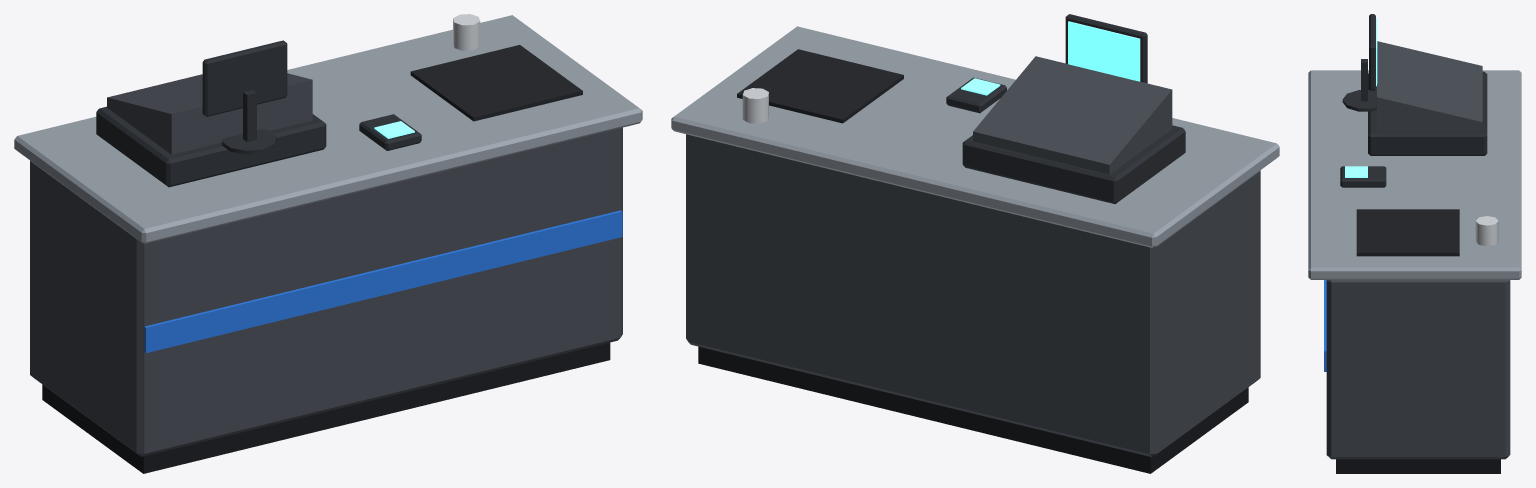
Rendered from cash_register.glb.
The picture shows the model from 3 angles, left to right: view 1: azimuth 30°, elevation 25°; view 2: azimuth 150°, elevation 25°; view 3: azimuth 270°, elevation 25°; orthographic projection. The views are drawn at different scales.
Parts seen in each view (by area): view 1: cash_register; view 2: cash_register; view 3: cash_register.
Part boxes in pixels (bbox=[...]): cash_register: bbox=[14, 14, 642, 473]; cash_register: bbox=[671, 14, 1279, 473]; cash_register: bbox=[1308, 14, 1521, 473].
Size of the model in its own units: 2.06 by 1.48 by 0.93.
